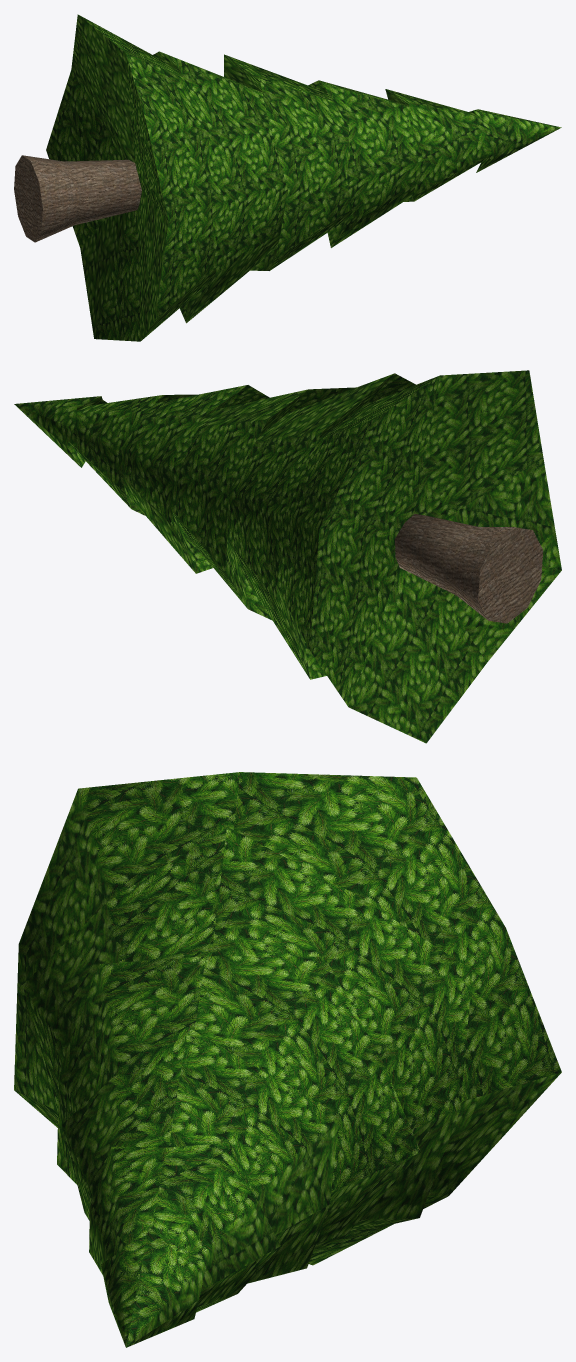
Rendered from treefalls8.obj.
3 renders of one model, top to bottom at view 1: azimuth 30°, elevation 25°; view 2: azimuth 150°, elevation 25°; view 3: azimuth 270°, elevation 25°, orthographic. The views are drawn at different scales.
Visible parts, largest first — view 1: Cylinder.002_Cylinder.013, Cylinder.001_Cylinder.012; view 2: Cylinder.002_Cylinder.013, Cylinder.001_Cylinder.012; view 3: Cylinder.002_Cylinder.013.
Part boxes in pixels (bbox=[...]): Cylinder.002_Cylinder.013: bbox=[46, 14, 561, 341]; Cylinder.001_Cylinder.012: bbox=[14, 155, 141, 242]; Cylinder.002_Cylinder.013: bbox=[14, 370, 561, 743]; Cylinder.001_Cylinder.012: bbox=[395, 514, 543, 623]; Cylinder.002_Cylinder.013: bbox=[14, 772, 561, 1347].
Size of the model in its own units: 3.84 by 2.25 by 2.23.
